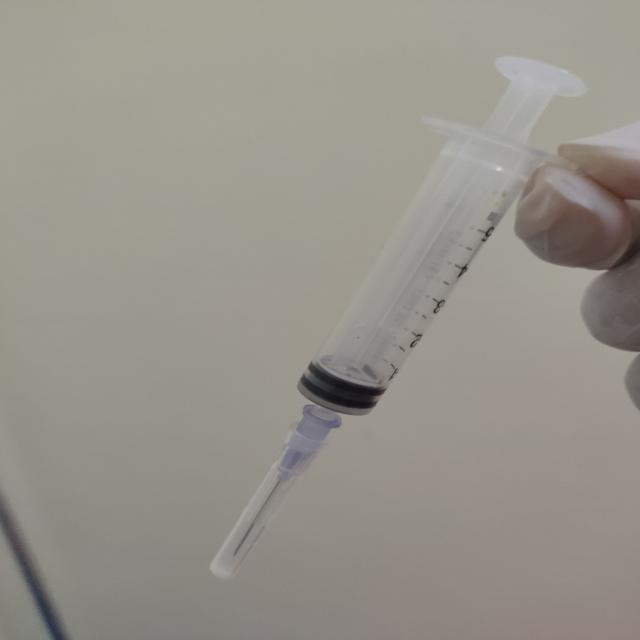B3: (182, 53, 608, 590), (293, 46, 593, 408), (203, 397, 359, 584)
